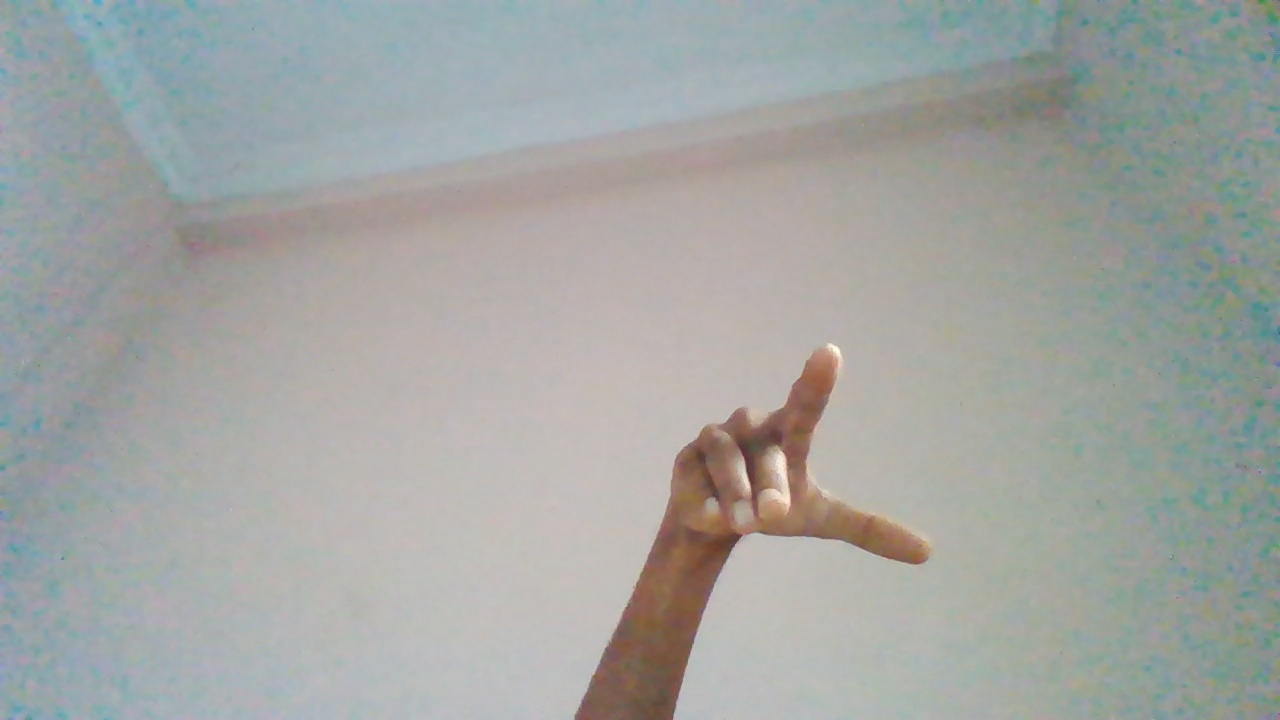ke: (659, 343, 937, 711)
